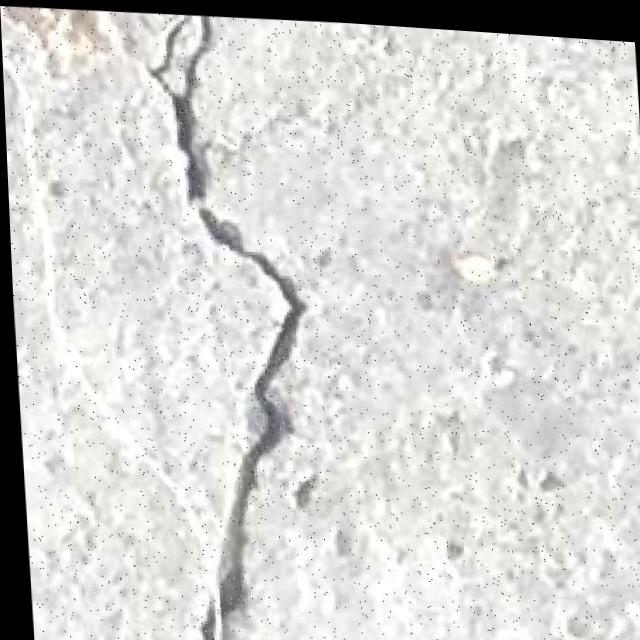Crack: (134, 7, 326, 640)
